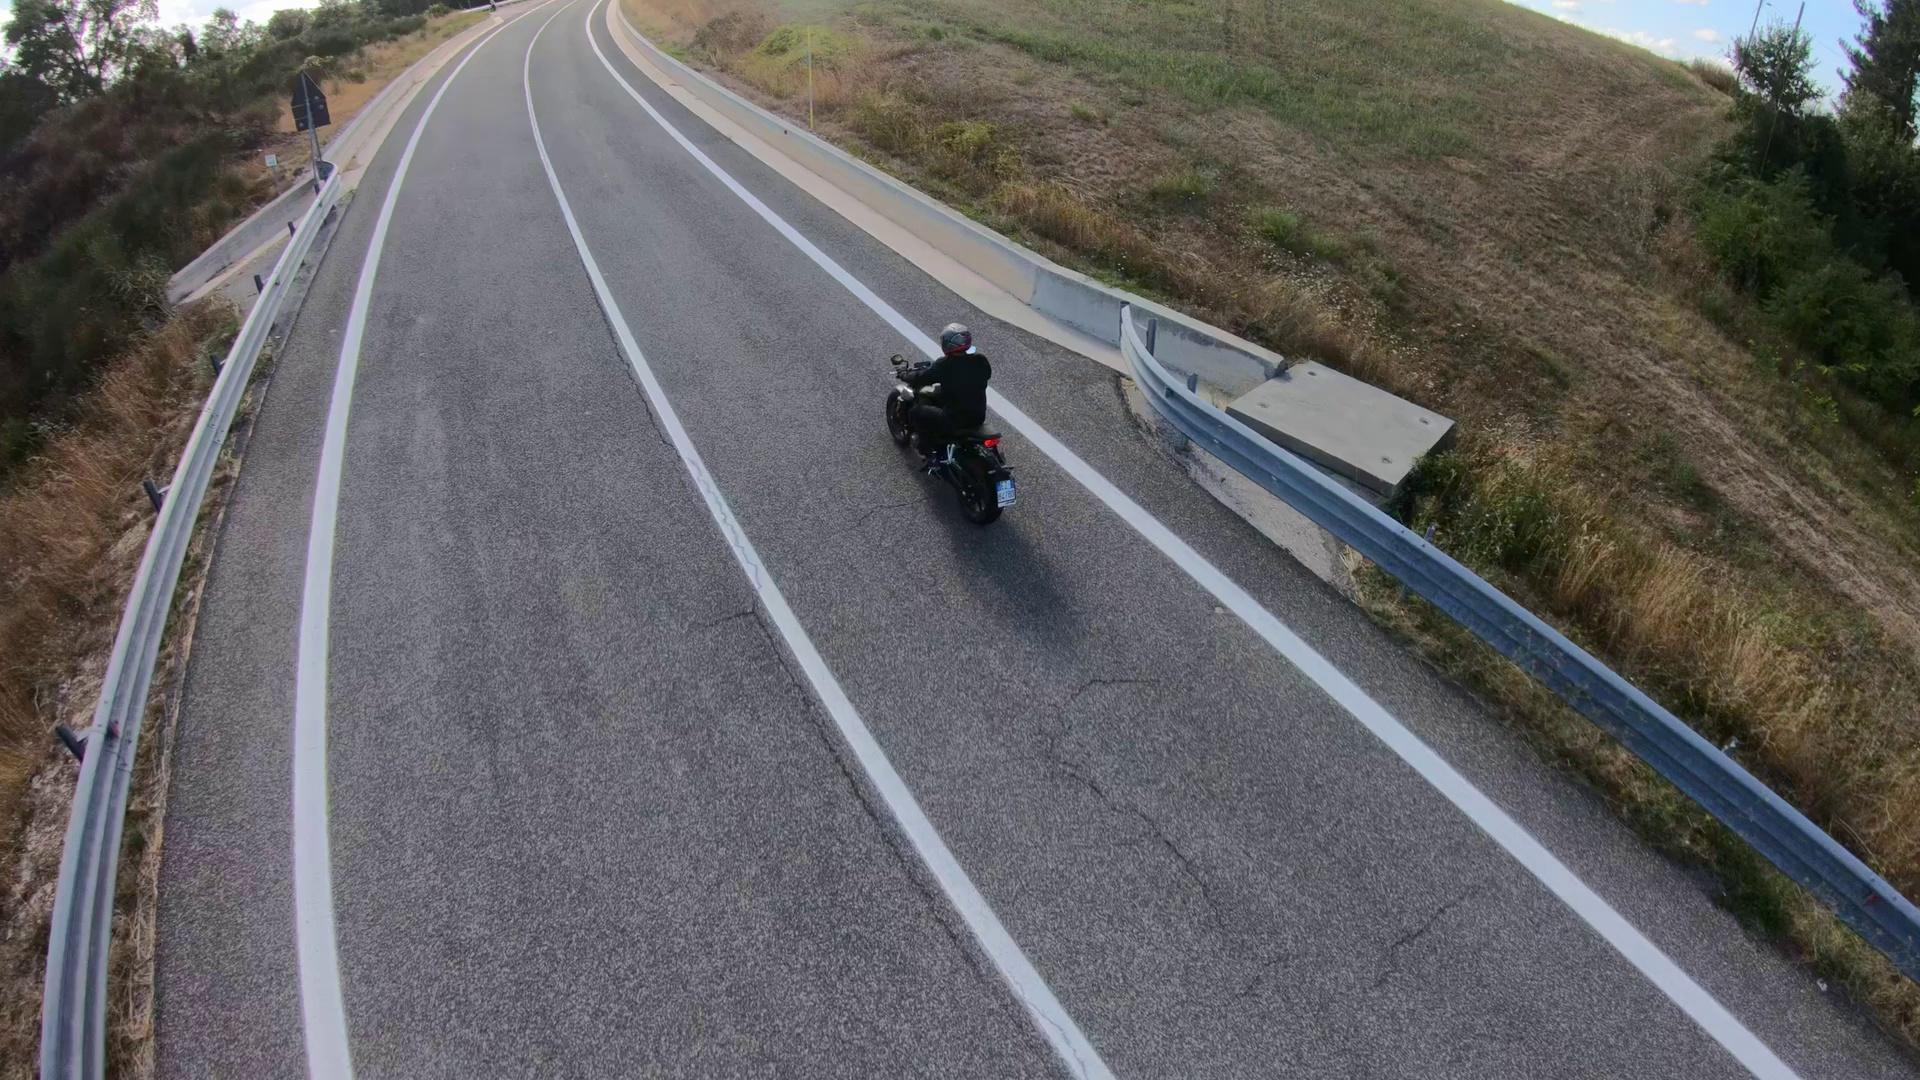cow: (880, 349, 1021, 526)
horse: (895, 320, 993, 462)
